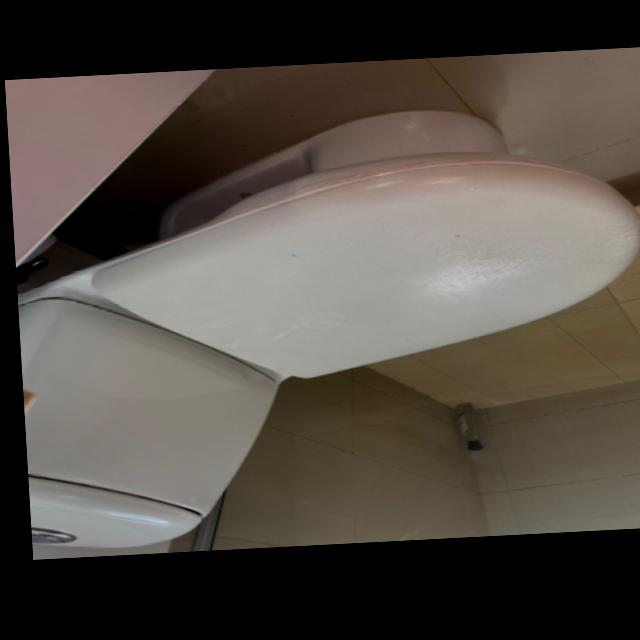toilet: (7, 105, 640, 555)
